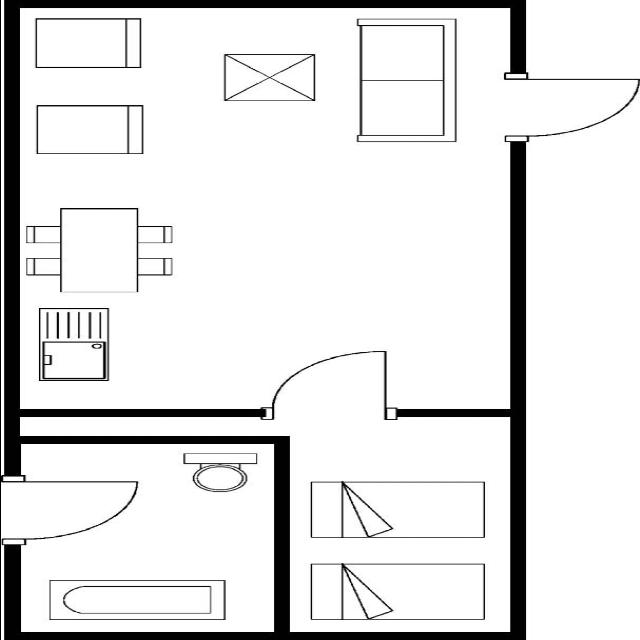bed: (304, 478, 492, 542), (302, 560, 492, 622)
coffee_table: (215, 50, 323, 104)
dining_table: (23, 204, 179, 296)
large_sink: (176, 450, 264, 494)
large_sofa: (346, 15, 463, 144)
sink: (31, 304, 117, 384)
small_sofa: (26, 100, 152, 158), (27, 15, 146, 71)
tub: (43, 574, 236, 622)
